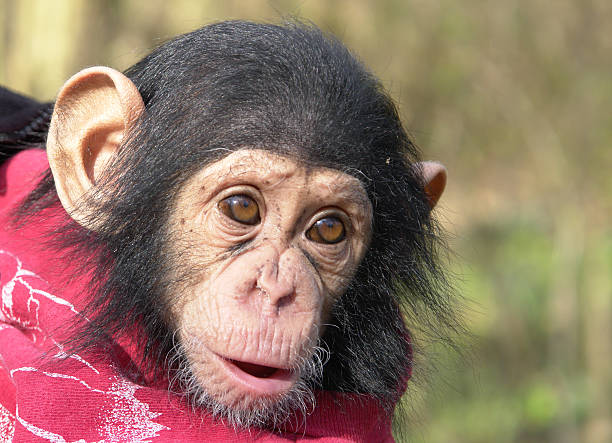chimpanzee: (36, 9, 462, 434)
